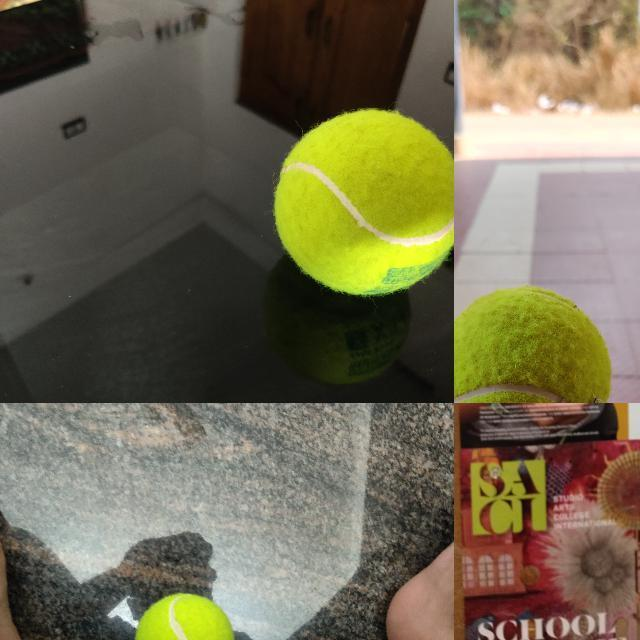tennis-ball: (271, 108, 453, 297), (454, 286, 612, 402), (134, 592, 236, 639)
